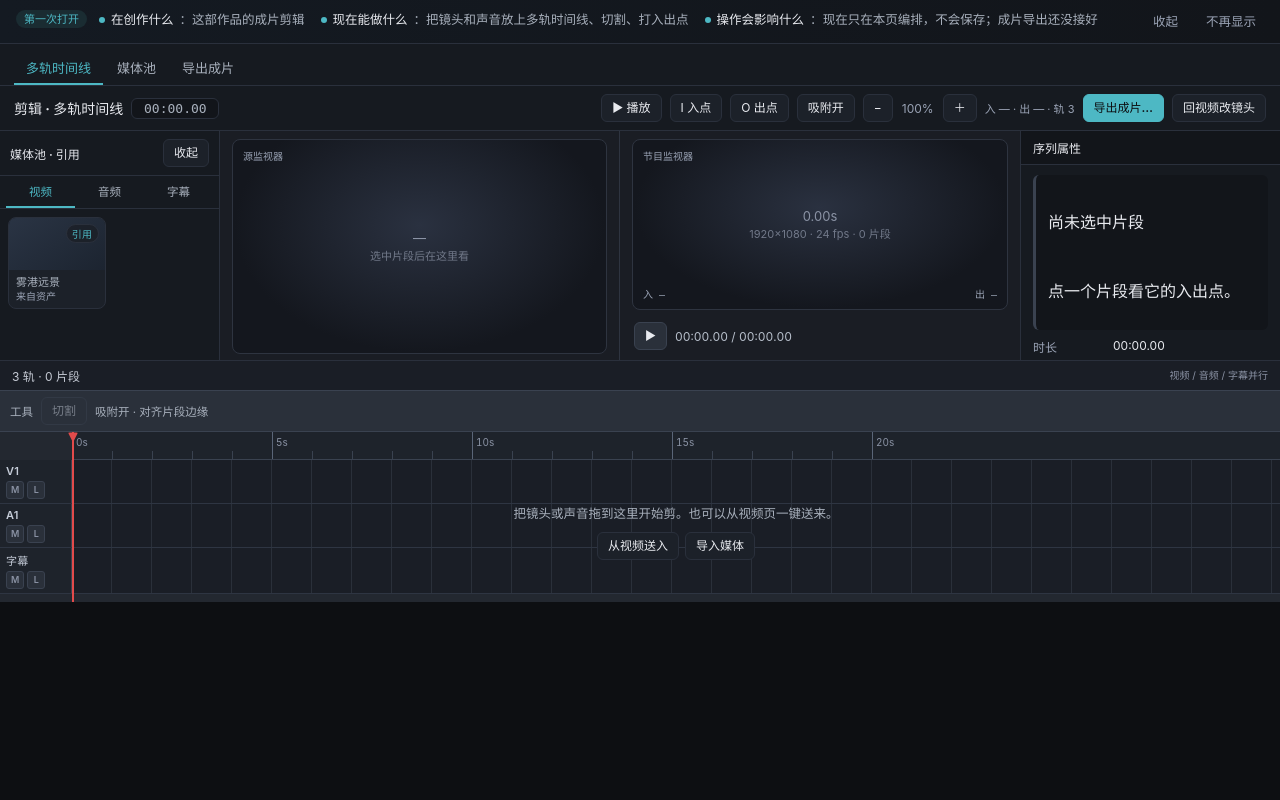
Test: EditRebuild › export subview: MP4 disabled with reason; no internal ids on screen
Click the button "导出成片…".
click(1123, 108)  # box [1082,94,1164,122]
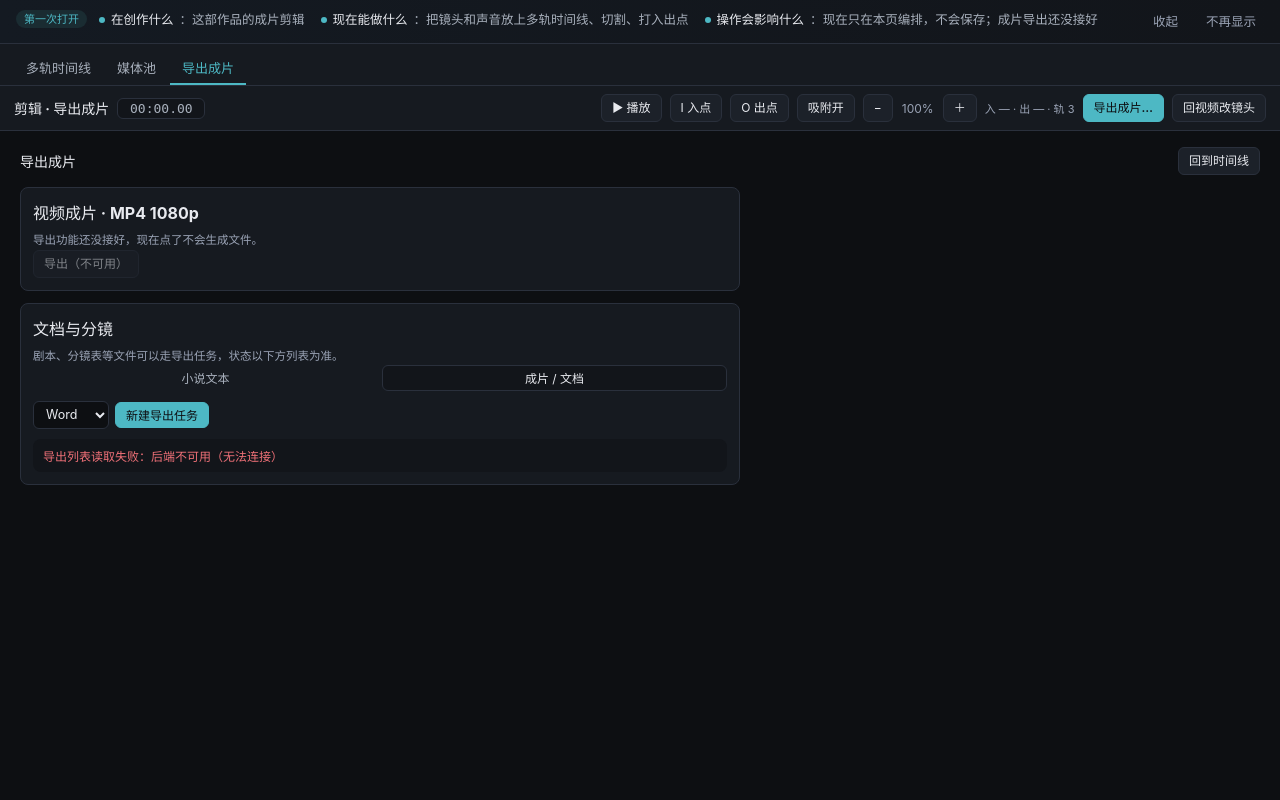
Expected: the button "导出（不可用）" is disabled, [33,250,139,278]
Expected: the text "导出功能还没接好，现在点了不会生成文件。" is shown, [33,233,263,247]
